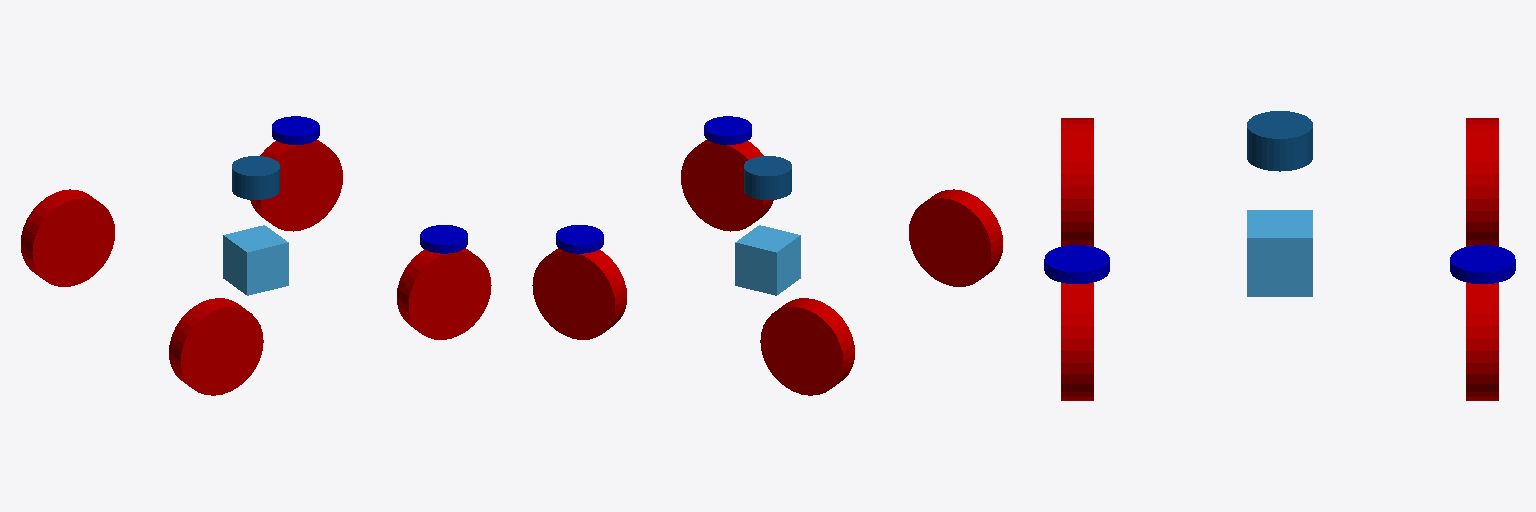
The robot description file, URDF, robot "mobile_base":
<?xml version="1.0" ?>


<robot name="mobile_base">
  <material name="red">
    <color rgba="0.8 0 0 1"/>
  </material>
  <material name="green">
    <color rgba="0 0.8 0 1"/>
  </material>
  <material name="blue">
    <color rgba="0 0 0.8 1"/>
  </material>
  <material name="yellow">
    <color rgba="0.8 0.8 0 1"/>
  </material>
  <material name="orange">
    <color rgba="0.8 0.25 0 1"/>
  </material>
  <material name="black">
    <color rgba="0 0 0 1"/>
  </material>
  <material name="dark_gray">
    <color rgba="0.5 0.5 0.5 1"/>
  </material>
  <material name="gray">
    <color rgba="0.753 0.753 0.753 1"/>
  </material>
  <material name="silver">
    <color rgba="0.88 0.88 0.88 1"/>
  </material>
  <material name="white">
    <color rgba="1 1 1 1"/>
  </material>
  <!-- origin mass 5 -->
  <!-- Base link -->
  <link name="base_link">
    <visual>
      <origin rpy="3.14 0 0" xyz="-0.275 0 0"/>
      <geometry>
     
        <!-- <mesh
                    filename="file://[local-path]/mobile_base_ws/src/mobile_base/urdf/base/meshes/moveo_body.dae" /> -->
        <mesh filename="file://[local-path]/SA/mobile_base_ws/src/mobile_base/urdf/base/meshes/moveo_body.dae"/>
      </geometry>
    </visual>
    <collision>
      <origin rpy="0 0 0" xyz="0 0 0"/>
      <geometry>
        <box size="0.7 0.47 0.1"/>
      </geometry>
    </collision>
    <inertial>
      <origin rpy="0 0 0" xyz="0 0 0"/>
      <mass value="20"/>
      <inertia ixx="0.38483333333333336" ixy="0.0" ixz="0.0" iyy="0.8333333333333331" iyz="0.0" izz="1.184833333333333"/>
    </inertial>
  </link>
  <!-- Robot Footprint -->
  <link name="base_footprint">
    <inertial>
      <origin rpy="1.5707963267948966 0 1.5707963267948966" xyz="0 0 0"/>
      <mass value="0"/>
      <inertia ixx="0.0" ixy="0.0" ixz="0.0" iyy="0.0" iyz="0.0" izz="0.0"/>
    </inertial>
  </link>
  <joint name="base_joint" type="fixed">
    <parent link="base_link"/>
    <child link="base_footprint"/>
    <origin rpy="0 0 0" xyz="0.0 0.0 -0.15000000000000002"/>
  </joint>
  <link name="front_right_steer_link">
    <visual>
      <origin rpy="0 0 0" xyz="0 0 0"/>
      <geometry>
        <cylinder length="0.02" radius="0.05"/>
      </geometry>
      <material name="blue"/>
    </visual>
    <collision>
      <origin rpy="0 0 0" xyz="0 0 0"/>
      <geometry>
        <cylinder length="0.02" radius="0.05"/>
      </geometry>
    </collision>
    <inertial>
      <origin rpy="0 0 0" xyz="0 0 0"/>
      <mass value="1"/>
      <inertia ixx="0.0006583333333333334" ixy="0.0" ixz="0.0" iyy="0.0006583333333333334" iyz="0.0" izz="0.0012500000000000002"/>
    </inertial>
  </link>
  <joint name="front_right_steer_joint" type="revolute">
    <parent link="base_link"/>
    <child link="front_right_steer_link"/>
    <origin rpy="0 0 0" xyz="0.27499999999999997 -0.31 0.12000000000000001"/>
    <axis xyz="0 0 1"/>
    <limit effort="10.0" lower="-0.7853981633974483" upper="0.7853981633974483" velocity="5.0"/>
  </joint>
  <link name="front_right_wheel_link">
    <visual>
      <origin rpy="0 0 0" xyz="0 0 0"/>
      <geometry>
        <cylinder length="0.05" radius="0.1"/>
      </geometry>
      <material name="red"/>
    </visual>
    <collision>
      <origin rpy="0 0 0" xyz="0 0 0"/>
      <geometry>
        <cylinder length="0.05" radius="0.1"/>
      </geometry>
    </collision>
    <inertial>
      <origin rpy="0 0 0" xyz="0 0 0"/>
      <mass value="1"/>
      <inertia ixx="0.002708333333333334" ixy="0.0" ixz="0.0" iyy="0.002708333333333334" iyz="0.0" izz="0.005000000000000001"/>
    </inertial>
  </link>
  <joint name="front_right_wheel_joint" type="continuous">
    <parent link="front_right_steer_link"/>
    <child link="front_right_wheel_link"/>
    <origin rpy="-1.5707963267948966 0 0" xyz="0 0 -0.12000000000000001"/>
    <axis xyz="0 0 1"/>
  </joint>
  <gazebo reference="front_right_steer_link">
    <material>Gazebo/Blue</material>
  </gazebo>
  <gazebo reference="front_right_wheel_link">
    <material>Gazebo/Red</material>
  </gazebo>
  <link name="front_left_steer_link">
    <visual>
      <origin rpy="0 0 0" xyz="0 0 0"/>
      <geometry>
        <cylinder length="0.02" radius="0.05"/>
      </geometry>
      <material name="blue"/>
    </visual>
    <collision>
      <origin rpy="0 0 0" xyz="0 0 0"/>
      <geometry>
        <cylinder length="0.02" radius="0.05"/>
      </geometry>
    </collision>
    <inertial>
      <origin rpy="0 0 0" xyz="0 0 0"/>
      <mass value="1"/>
      <inertia ixx="0.0006583333333333334" ixy="0.0" ixz="0.0" iyy="0.0006583333333333334" iyz="0.0" izz="0.0012500000000000002"/>
    </inertial>
  </link>
  <joint name="front_left_steer_joint" type="revolute">
    <parent link="base_link"/>
    <child link="front_left_steer_link"/>
    <origin rpy="0 0 0" xyz="0.27499999999999997 0.31 0.12000000000000001"/>
    <axis xyz="0 0 1"/>
    <limit effort="10.0" lower="-0.7853981633974483" upper="0.7853981633974483" velocity="5.0"/>
  </joint>
  <link name="front_left_wheel_link">
    <visual>
      <origin rpy="0 0 0" xyz="0 0 0"/>
      <geometry>
        <cylinder length="0.05" radius="0.1"/>
      </geometry>
      <material name="red"/>
    </visual>
    <collision>
      <origin rpy="0 0 0" xyz="0 0 0"/>
      <geometry>
        <cylinder length="0.05" radius="0.1"/>
      </geometry>
    </collision>
    <inertial>
      <origin rpy="0 0 0" xyz="0 0 0"/>
      <mass value="1"/>
      <inertia ixx="0.002708333333333334" ixy="0.0" ixz="0.0" iyy="0.002708333333333334" iyz="0.0" izz="0.005000000000000001"/>
    </inertial>
  </link>
  <joint name="front_left_wheel_joint" type="continuous">
    <parent link="front_left_steer_link"/>
    <child link="front_left_wheel_link"/>
    <origin rpy="-1.5707963267948966 0 0" xyz="0 0 -0.12000000000000001"/>
    <axis xyz="0 0 1"/>
  </joint>
  <gazebo reference="front_left_steer_link">
    <material>Gazebo/Blue</material>
  </gazebo>
  <gazebo reference="front_left_wheel_link">
    <material>Gazebo/Red</material>
  </gazebo>
  <link name="rear_right_wheel_link">
    <visual>
      <origin rpy="0 0 0" xyz="0 0 0"/>
      <geometry>
        <cylinder length="0.05" radius="0.1"/>
      </geometry>
      <material name="red"/>
    </visual>
    <collision>
      <origin rpy="0 0 0" xyz="0 0 0"/>
      <geometry>
        <cylinder length="0.05" radius="0.1"/>
      </geometry>
    </collision>
    <inertial>
      <origin rpy="0 0 0" xyz="0 0 0"/>
      <mass value="1"/>
      <inertia ixx="0.002708333333333334" ixy="0.0" ixz="0.0" iyy="0.002708333333333334" iyz="0.0" izz="0.005000000000000001"/>
    </inertial>
  </link>
  <joint name="rear_right_wheel_joint" type="continuous">
    <parent link="base_link"/>
    <child link="rear_right_wheel_link"/>
    <origin rpy="-1.5707963267948966 0 0" xyz="-0.27499999999999997 -0.31 0"/>
    <axis xyz="0 0 1"/>
  </joint>
  <gazebo reference="rear_right_wheel_link">
    <material>Gazebo/Red</material>
  </gazebo>
  <link name="rear_left_wheel_link">
    <visual>
      <origin rpy="0 0 0" xyz="0 0 0"/>
      <geometry>
        <cylinder length="0.05" radius="0.1"/>
      </geometry>
      <material name="red"/>
    </visual>
    <collision>
      <origin rpy="0 0 0" xyz="0 0 0"/>
      <geometry>
        <cylinder length="0.05" radius="0.1"/>
      </geometry>
    </collision>
    <inertial>
      <origin rpy="0 0 0" xyz="0 0 0"/>
      <mass value="1"/>
      <inertia ixx="0.002708333333333334" ixy="0.0" ixz="0.0" iyy="0.002708333333333334" iyz="0.0" izz="0.005000000000000001"/>
    </inertial>
  </link>
  <joint name="rear_left_wheel_joint" type="continuous">
    <parent link="base_link"/>
    <child link="rear_left_wheel_link"/>
    <origin rpy="-1.5707963267948966 0 0" xyz="-0.27499999999999997 0.31 0"/>
    <axis xyz="0 0 1"/>
  </joint>
  <gazebo reference="rear_left_wheel_link">
    <material>Gazebo/Red</material>
  </gazebo>
  <link name="lidar_link">
    <inertial>
      <origin rpy="0 0 0" xyz="0 0 0"/>
      <mass value="0.125"/>
      <inertia ixx="0.001" ixy="0" ixz="0" iyy="0.001" iyz="0" izz="0.001"/>
    </inertial>
    <collision>
      <origin rpy="0 0 0" xyz="0 0 0"/>
      <geometry>
        <cylinder length="0.055" radius="0.0508"/>
      </geometry>
    </collision>
    <visual>
      <origin rpy="0 0 0" xyz="0 0 0"/>
      <geometry>
        <cylinder length="0.055" radius="0.0508"/>
      </geometry>
      <material name="LightBlue">
        <color rgba="0.11 0.37 0.56 1.0"/>
      </material>
    </visual>
  </link>
  <joint name="lidar_joint" type="fixed">
    <parent link="base_link"/>
    <child link="lidar_link"/>
    <origin rpy="0 0 0" xyz="0 0 0.2"/>
  </joint>
  <gazebo reference="lidar_link">
    <sensor name="lidar" type="gpu_lidar">
      <ignition_frame_id>lidar_link</ignition_frame_id>
      <topic>scan</topic>
      <always_on>true</always_on>
      <visualize>true</visualize>
      <update_rate>5</update_rate>
      <ray>
        <scan>
          <horizontal>
            <samples>360</samples>
            <resolution>1.000000</resolution>
            <min_angle>0.000000</min_angle>
            <max_angle>6.280000</max_angle>
          </horizontal>
        </scan>
        <range>
          <min>0.120000</min>
          <max>3.5</max>
          <resolution>0.015000</resolution>
        </range>
        <noise>
          <type>gaussian</type>
          <mean>0.0</mean>
          <stddev>0.01</stddev>
        </noise>
      </ray>
    </sensor>
  </gazebo>
  <!-- IMU -->
  <link name="imu_link">
    <visual>
      <geometry>
        <box size="0.1 0.1 0.1"/>
      </geometry>
    </visual>
    <collision>
      <geometry>
        <box size="0.1 0.1 0.1"/>
      </geometry>
    </collision>
    <inertial>
      <origin rpy="1.5707963267948966 0 1.5707963267948966" xyz="0 0 0"/>
      <mass value="0.001"/>
      <inertia ixx="1.6666666666666669e-06" ixy="0.0" ixz="0.0" iyy="1.6666666666666669e-06" iyz="0.0" izz="1.6666666666666669e-06"/>
    </inertial>
  </link>
  <gazebo reference="imu_link">
    <sensor name="imu_sensor" type="imu">
      <ignition_frame_id>imu_link</ignition_frame_id>
      <plugin filename="ignition-gazebo-imu-system" name="ignition::gazebo::systems::Imu">
            </plugin>
      <topic>imu</topic>
      <always_on>true</always_on>
      <update_rate>30</update_rate>
      <visualize>true</visualize>
      <imu>
        <angular_velocity>
          <x>
            <noise type="gaussian">
              <mean>0.0</mean>
              <stddev>2e-4</stddev>
              <bias_mean>0.0000075</bias_mean>
              <bias_stddev>0.0000008</bias_stddev>
            </noise>
          </x>
          <y>
            <noise type="gaussian">
              <mean>0.0</mean>
              <stddev>2e-4</stddev>
              <bias_mean>0.0000075</bias_mean>
              <bias_stddev>0.0000008</bias_stddev>
            </noise>
          </y>
          <z>
            <noise type="gaussian">
              <mean>0.0</mean>
              <stddev>2e-4</stddev>
              <bias_mean>0.0000075</bias_mean>
              <bias_stddev>0.0000008</bias_stddev>
            </noise>
          </z>
        </angular_velocity>
        <linear_acceleration>
          <x>
            <noise type="gaussian">
              <mean>0.0</mean>
              <stddev>1.7e-2</stddev>
              <bias_mean>0.1</bias_mean>
              <bias_stddev>0.001</bias_stddev>
            </noise>
          </x>
          <y>
            <noise type="gaussian">
              <mean>0.0</mean>
              <stddev>1.7e-2</stddev>
              <bias_mean>0.1</bias_mean>
              <bias_stddev>0.001</bias_stddev>
            </noise>
          </y>
          <z>
            <noise type="gaussian">
              <mean>0.0</mean>
              <stddev>1.7e-2</stddev>
              <bias_mean>0.1</bias_mean>
              <bias_stddev>0.001</bias_stddev>
            </noise>
          </z>
        </linear_acceleration>
      </imu>
    </sensor>
  </gazebo>
  <joint name="imu_joint" type="fixed">
    <parent link="base_link"/>
    <child link="imu_link"/>
    <origin xyz="0 0 0.01"/>
  </joint>
 
<!-- </robot>

<robot name="ur10"> -->
	<link name="manipulator_base_link">
		<origin rpy="0 0 0" xyz="0 0 0"/>
		<inertial>
			<mass value="4"/>
			<inertia ixx="0.00610633" ixy="0" ixz="0" iyy="0.00610633" iyz="0" izz="0.01125"/>
		</inertial>
		<collision>
			<geometry>
				<mesh filename="file://[local-path]/SA/modi_manu_ws/install/universal_robot_ign/share/universal_robot_ign/resource/models/ur10/meshes/collision/base.stl"/>
			</geometry>
		</collision>
		<visual>
			<geometry>
				<mesh filename="file://[local-path]/SA/modi_manu_ws/install/universal_robot_ign/share/universal_robot_ign/resource/models/ur10/meshes/visual/base.dae"/>
			</geometry>
		</visual>
	</link>

    <!-- mount the manipulator_base_link to the mobile base (base_link) -->
    <joint name="mount_joint" type="fixed">
        <origin rpy="0 0 0" xyz="0 0 0.6"/>
        <parent link="base_link"/>
        <child link="manipulator_base_link"/>
    </joint>

	<joint name="shoulder_pan_joint" type="revolute">
		<origin rpy="0 -0 0" xyz="0 0 0.1273"/>
		<parent link="manipulator_base_link"/>
		<child link="shoulder_link"/>
		<axis xyz="0 0 1"/>
		<limit lower="-6.28319" upper="6.28319" effort="330" velocity="2.16"/>
		<dynamics damping="0" friction="0"/>
	</joint>
	<link name="shoulder_link">
		<origin rpy="0 -0 0" xyz="0 0 0"/>
		<inertial>
			<mass value="7.778"/>
			<inertia ixx="0.0314743" ixy="0" ixz="0" iyy="0.0314743" iyz="0" izz="0.0218756"/>
		</inertial>
		<collision>
			<geometry>
				<mesh filename="file://[local-path]/SA/modi_manu_ws/install/universal_robot_ign/share/universal_robot_ign/resource/models/ur10/meshes/collision/shoulder.stl"/>
			</geometry>
		</collision>
		<visual>
			<geometry>
				<mesh filename="file://[local-path]/SA/modi_manu_ws/install/universal_robot_ign/share/universal_robot_ign/resource/models/ur10/meshes/visual/shoulder.dae"/>
			</geometry>
		</visual>
	</link>
	<joint name="shoulder_lift_joint" type="revolute">
		<!-- <origin rpy="0 1.5708 0" xyz="0 0.220941 0"/> -->
    <origin rpy="0 0 0" xyz="0 0.220941 0"/>
		<parent link="shoulder_link"/>
		<child link="upper_arm_link"/>
		<axis xyz="0 1 0"/>
		<limit lower="-6.28319" upper="6.28319" effort="330" velocity="2.16"/>
		<dynamics damping="0" friction="0"/>
	</joint>
	<link name="upper_arm_link">
		<origin rpy="0 -0 0" xyz="0 0 0"/>
		<inertial>
			<origin rpy="0 -0 0" xyz="0 -0.045 0.306"/>
			<mass value="12.93"/>
			<inertia ixx="0.421754" ixy="0" ixz="0" iyy="0.421754" iyz="0" izz="0.0363656"/>
		</inertial>
		<collision>
			<geometry>
				<mesh filename="file://[local-path]/SA/modi_manu_ws/install/universal_robot_ign/share/universal_robot_ign/resource/models/ur10/meshes/collision/upperarm.stl"/>
			</geometry>
		</collision>
		<visual>
			<geometry>
				<mesh filename="file://[local-path]/SA/modi_manu_ws/install/universal_robot_ign/share/universal_robot_ign/resource/models/ur10/meshes/visual/upperarm.dae"/>
			</geometry>
		</visual>
	</link>
	<joint name="elbow_joint" type="revolute">
		<origin rpy="0 2.395 0" xyz="0 -0.1719 0.612"/>
		<parent link="upper_arm_link"/>
		<child link="forearm_link"/>
		<axis xyz="0 1 0"/>
		<limit lower="-3.14159" upper="3.14159" effort="150" velocity="3.15"/>
		<dynamics damping="0" friction="0"/>
	</joint>
	<link name="forearm_link">
		<origin rpy="0 -0 0" xyz="0 0 0"/>
		<inertial>
			<origin rpy="0 -0 0" xyz="0 0 0.28615"/>
			<mass value="3.87"/>
			<inertia ixx="0.11107" ixy="0" ixz="0" iyy="0.11107" iyz="0" izz="0.0108844"/>
		</inertial>
		<collision>
			<geometry>
				<mesh filename="file://[local-path]/SA/modi_manu_ws/install/universal_robot_ign/share/universal_robot_ign/resource/models/ur10/meshes/collision/forearm.stl"/>
			</geometry>
		</collision>
		<visual>
			<geometry>
				<mesh filename="file://[local-path]/SA/modi_manu_ws/install/universal_robot_ign/share/universal_robot_ign/resource/models/ur10/meshes/visual/forearm.dae"/>
			</geometry>
		</visual>
	</link>
	<joint name="wrist_1_joint" type="revolute">
		<origin rpy="0 0 0" xyz="0 0 0.5723"/>
		<parent link="forearm_link"/>
		<child link="wrist_1_link"/>
		<axis xyz="0 1 0"/>
		<limit lower="-6.28319" upper="6.28319" effort="54" velocity="3.2"/>
		<dynamics damping="0" friction="0"/>
	</joint>
	<link name="wrist_1_link">
		<origin rpy="0 -0 0" xyz="0 0 0"/>
		<inertial>
			<origin rpy="0 -0 0" xyz="0 0.1149 0"/>
			<mass value="1.96"/>
			<inertia ixx="0.00510825" ixy="0" ixz="0" iyy="0.00510825" iyz="0" izz="0.0055125"/>
		</inertial>
		<collision>
			<geometry>
				<mesh filename="file://[local-path]/SA/modi_manu_ws/install/universal_robot_ign/share/universal_robot_ign/resource/models/ur10/meshes/collision/wrist1.stl"/>
			</geometry>
		</collision>
		<visual>
			<geometry>
				<mesh filename="file://[local-path]/SA/modi_manu_ws/install/universal_robot_ign/share/universal_robot_ign/resource/models/ur10/meshes/visual/wrist1.dae"/>
			</geometry>
		</visual>
	</link>
	<joint name="wrist_2_joint" type="revolute">
		<origin rpy="0 -0 1.57079632679" xyz="0 0.1149 0"/>
		<parent link="wrist_1_link"/>
		<child link="wrist_2_link"/>
		<axis xyz="0 0 1"/>
		<limit lower="-6.28319" upper="6.28319" effort="54" velocity="3.2"/>
		<dynamics damping="0" friction="0"/>
	</joint>
	<link name="wrist_2_link">
		<origin rpy="0 -0 0" xyz="0 0 0"/>
		<inertial>
			<origin rpy="0 -0 0" xyz="0 0 0.1157"/>
			<mass value="1.96"/>
			<inertia ixx="0.00510825" ixy="0" ixz="0" iyy="0.00510825" iyz="0" izz="0.0055125"/>
		</inertial>
		<collision>
			<geometry>
				<mesh filename="file://[local-path]/SA/modi_manu_ws/install/universal_robot_ign/share/universal_robot_ign/resource/models/ur10/meshes/collision/wrist2.stl"/>
			</geometry>
		</collision>
		<visual>
			<geometry>
				<mesh filename="file://[local-path]/SA/modi_manu_ws/install/universal_robot_ign/share/universal_robot_ign/resource/models/ur10/meshes/visual/wrist2.dae"/>
			</geometry>
		</visual>
	</link>
	<joint name="wrist_3_joint" type="revolute">
		<origin rpy="0 2.441 0" xyz="0 0 0.1157"/>
		<parent link="wrist_2_link"/>
		<child link="wrist_3_link"/>
		<axis xyz="0 1 0"/>
		<limit lower="-6.28319" upper="6.28319" effort="54" velocity="3.2"/>
		<dynamics damping="0" friction="0"/>
	</joint>
	<link name="wrist_3_link">
		<origin rpy="0 -0 0" xyz="0 0 0"/>
		<inertial>
			<origin rpy="1.5708 -0 0" xyz="0 0.07695 0"/>
			<mass value="0.202"/>
			<inertia ixx="0.000117922" ixy="0" ixz="0" iyy="0.000117922" iyz="0" izz="0.000204525"/>
		</inertial>
		<collision>
			<geometry>
				<mesh filename="file://[local-path]/SA/modi_manu_ws/install/universal_robot_ign/share/universal_robot_ign/resource/models/ur10/meshes/collision/wrist3.stl"/>
			</geometry>
		</collision>
		<visual>
			<geometry>
				<mesh filename="file://[local-path]/SA/modi_manu_ws/install/universal_robot_ign/share/universal_robot_ign/resource/models/ur10/meshes/visual/wrist3.dae"/>
			</geometry>
		</visual>
	</link>
	<joint name="ee_fixed_joint" type="fixed">
		<origin rpy="0.0 0.0 1.5707963267948966" xyz="0.0 0.0922 0.0"/>
		<parent link="wrist_3_link"/>
		<child link="ee_link"/>
	</joint>
	<link name="ee_link">
		<inertial>
			<mass value="0.001"/>
			<inertia ixx="1.6666666666666667e-08" ixy="0" ixz="0" iyy="1.6666666666666667e-08" iyz="0" izz="1.6666666666666667e-08"/>
		</inertial>
		<collision>
			<geometry>
				<box size="0.01 0.01 0.01"/>
			</geometry>
		</collision>
	</link>
  <!-- <joint name="world_ur10_joint" type="fixed">
    <parent link="world"/>
		<child link="base_link"/>
  </joint> -->
     <!-- controller -->
  <ros2_control name="IgnitionSystem" type="system">
    <hardware>
      <plugin>ign_ros2_control/IgnitionSystem</plugin>
    </hardware>
    <joint name="front_left_steer_joint">
      <command_interface name="position"/>
      <state_interface name="position"/>
      <state_interface name="velocity"/>
    </joint>
    <joint name="front_right_steer_joint">
      <command_interface name="position"/>
      <state_interface name="position"/>
      <state_interface name="velocity"/>
    </joint>
    <joint name="rear_left_wheel_joint">
      <command_interface name="velocity"/>
      <state_interface name="position"/>
      <state_interface name="velocity"/>
    </joint>
    <joint name="rear_right_wheel_joint">
      <command_interface name="velocity"/>
      <state_interface name="position"/>
      <state_interface name="velocity"/>
    </joint>
    <joint name="front_left_wheel_joint">
      <state_interface name="position"/>
      <state_interface name="velocity"/>
    </joint>
    <joint name="front_right_wheel_joint">
      <state_interface name="position"/>
      <state_interface name="velocity"/>
    </joint>

    <joint name="shoulder_pan_joint">
      <command_interface name="position"/>
      <command_interface name="velocity"/>
      <state_interface name="position"/>
      <state_interface name="velocity"/>
    </joint>
    <joint name="shoulder_lift_joint">
      <command_interface name="position"/>
      <command_interface name="velocity"/>
      <state_interface name="position"/>
      <state_interface name="velocity"/>
    </joint>
    <joint name="elbow_joint">
      <command_interface name="position"/>
      <command_interface name="velocity"/>
      <state_interface name="position"/>
      <state_interface name="velocity"/>
    </joint>
    <joint name="wrist_1_joint">
      <command_interface name="position"/>
      <command_interface name="velocity"/>
      <state_interface name="position"/>
      <state_interface name="velocity"/>
    </joint>
    <joint name="wrist_2_joint">
      <command_interface name="position"/>
      <command_interface name="velocity"/>
      <state_interface name="position"/>
      <state_interface name="velocity"/>
    </joint>
    <joint name="wrist_3_joint">
      <command_interface name="position"/>
      <command_interface name="velocity"/>
      <state_interface name="position"/>
      <state_interface name="velocity"/>
    </joint>
  </ros2_control>
  <gazebo>
    <plugin filename="ign_ros2_control-system" name="ign_ros2_control::IgnitionROS2ControlPlugin">
      <ros>
        <namespace/>
        <remapping>ackermann_steering_controller/reference_unstamped:=cmd_vel</remapping>
        <remapping>ackermann_steering_controller/odometry:=ackodom</remapping>
        <remapping>ackermann_steering_controller/tf_odometry:=tf</remapping>
      </ros>
      <parameters>[local-path]/SA/mobile_manipulator/install/mobile_base/share/mobile_base/config/ackermann_steering_controller.yaml</parameters>
    </plugin>
  </gazebo>
</robot>

--- Render facts (derived) ---
3 views of the same robot in one strip: view 1: azimuth 30°, elevation 25°; view 2: azimuth 150°, elevation 25°; view 3: azimuth 270°, elevation 25° (orthographic).
Model mobile_base with 18 links and 17 joints (8 revolute, 4 continuous, 5 fixed), rooted at base_link, posed all joints at 0.
Visible links, largest first — view 1: rear_left_wheel_link, rear_right_wheel_link, front_right_wheel_link, front_left_wheel_link, imu_link, lidar_link, front_left_steer_link, front_right_steer_link; view 2: rear_right_wheel_link, rear_left_wheel_link, front_left_wheel_link, front_right_wheel_link, imu_link, lidar_link, front_right_steer_link, front_left_steer_link; view 3: imu_link, rear_right_wheel_link, rear_left_wheel_link, front_right_wheel_link, front_left_wheel_link, lidar_link, front_right_steer_link, front_left_steer_link.
Link boxes in pixels (x1,y1,x2,y2): rear_left_wheel_link: (21, 189, 114, 286); rear_right_wheel_link: (169, 298, 263, 395); front_right_wheel_link: (397, 248, 491, 339); front_left_wheel_link: (250, 140, 342, 231); imu_link: (223, 225, 288, 295); lidar_link: (232, 156, 279, 199); front_left_steer_link: (272, 116, 319, 144); front_right_steer_link: (420, 225, 467, 253); rear_right_wheel_link: (909, 189, 1002, 286); rear_left_wheel_link: (760, 298, 854, 395); front_left_wheel_link: (532, 248, 626, 339); front_right_wheel_link: (681, 140, 773, 231); imu_link: (735, 225, 800, 295); lidar_link: (744, 156, 791, 199); front_right_steer_link: (704, 116, 751, 144); front_left_steer_link: (556, 225, 603, 253); imu_link: (1247, 210, 1312, 296); rear_right_wheel_link: (1061, 118, 1093, 246); rear_left_wheel_link: (1466, 118, 1498, 246); front_right_wheel_link: (1061, 282, 1093, 400); front_left_wheel_link: (1466, 282, 1498, 400); lidar_link: (1247, 111, 1312, 171); front_right_steer_link: (1044, 245, 1109, 283); front_left_steer_link: (1450, 245, 1515, 283).
Bounding box of the posed robot: 0.75 × 0.72 × 0.3275 m (x, y, z).
Geometry: only primitive shapes (box / cylinder / sphere) drawn; not drawn: 8 mesh visuals (reference in a form the renderer does not follow).
